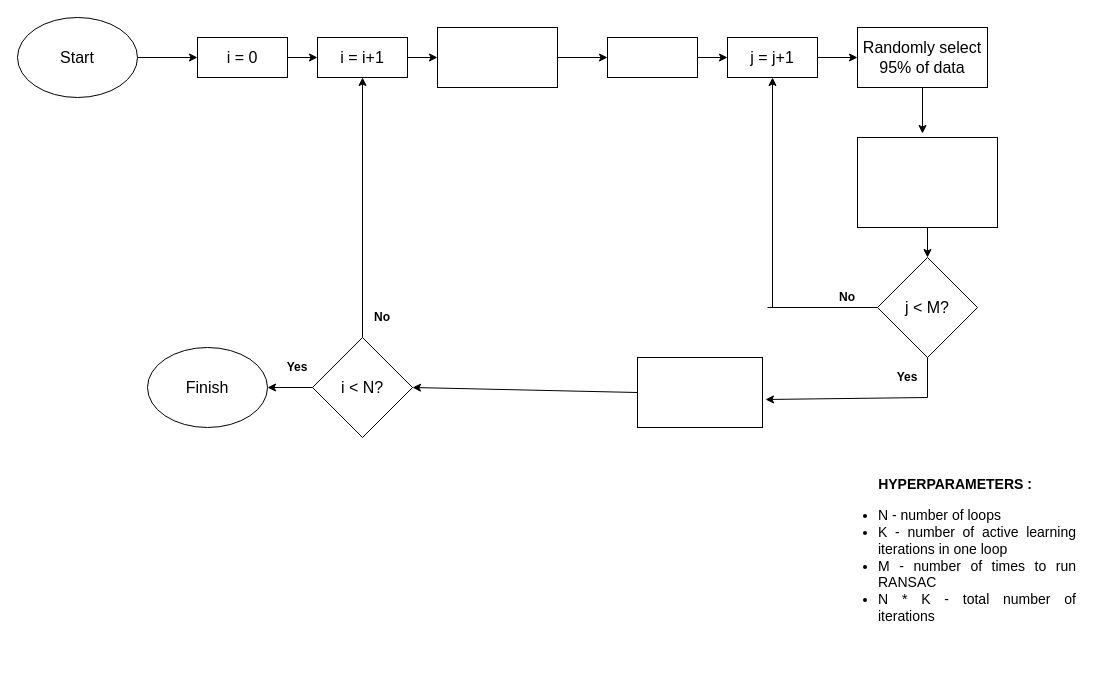
Some shapes in this 1095 by 685 pixel diagram are drawn without their labels. The shapes that lost their labels are listed below. From the top down, each one's box as (x1, y1, x2, y2) in pixels, then its label:
(436, 26, 558, 88): K iterations of active learning
(606, 36, 698, 78): j = 0
(856, 136, 998, 228): Train on the random data and test on validation set
(636, 356, 762, 428): Take 95% of data that gave best accuracy
